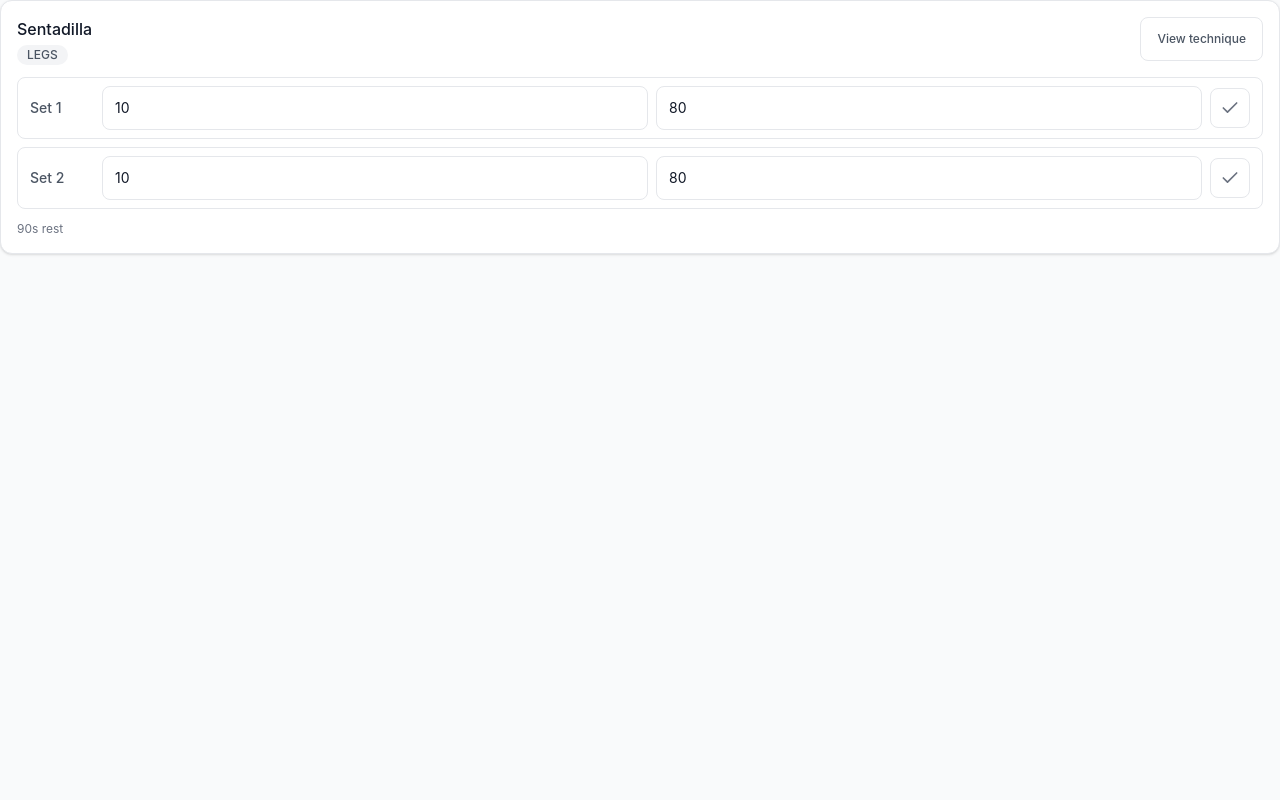
Test: WorkoutSessionExercise › abre modal de técnica cuando hay media
Click the button "View technique" at [1202, 39], box [1140, 17, 1263, 61]
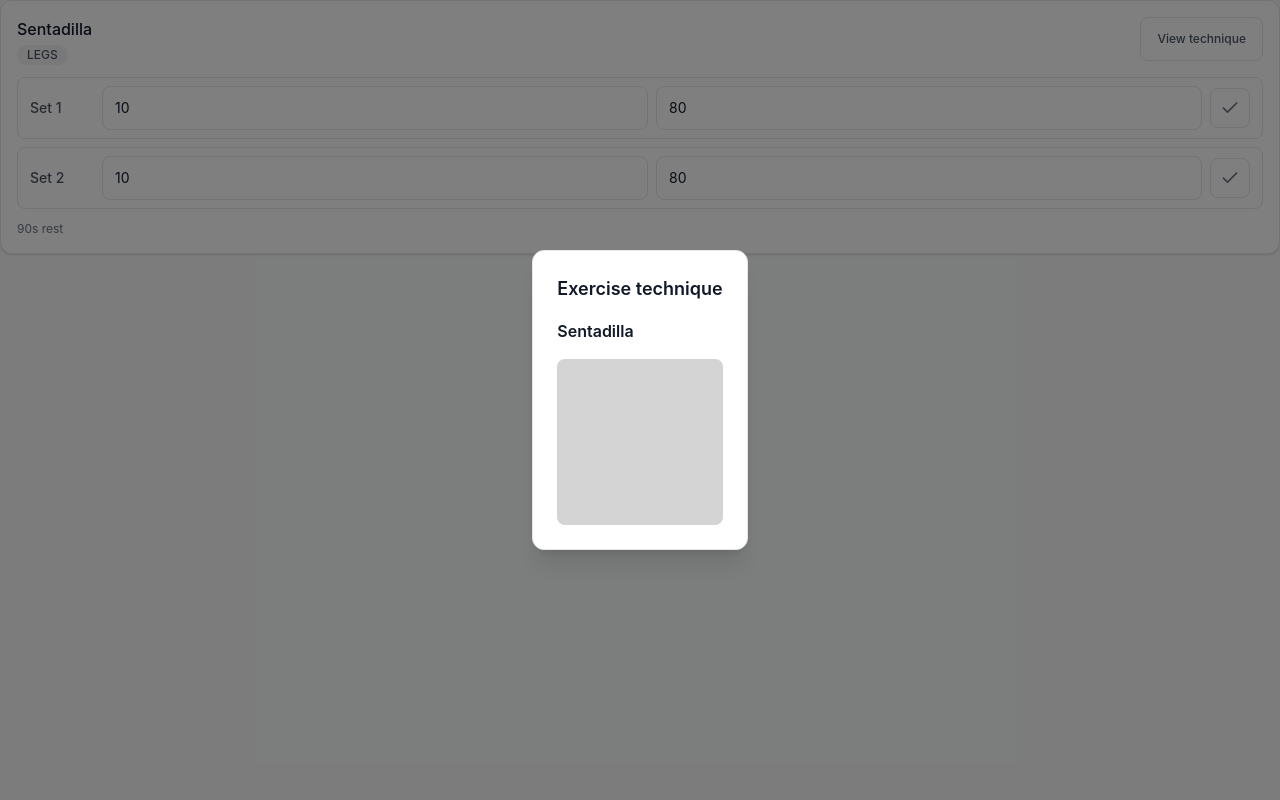
Expected: the dialog is shown, [532, 250, 748, 550]
